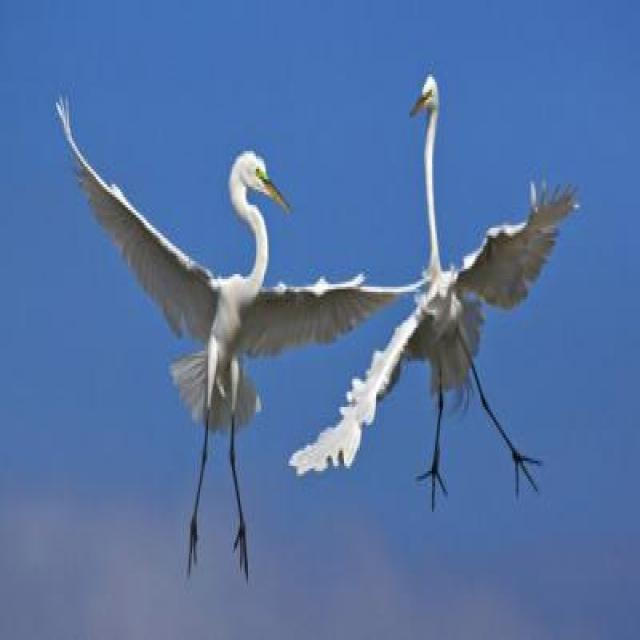birds: (46, 76, 433, 597), (281, 60, 591, 527)
